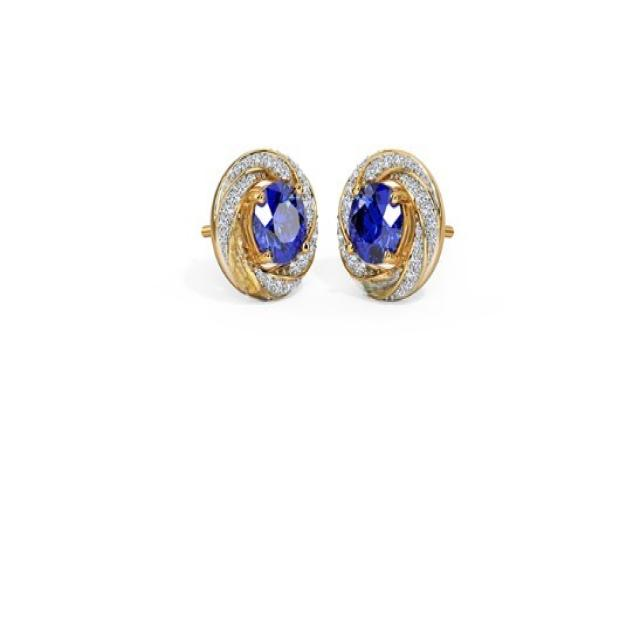missing gem: (225, 217, 273, 298), (417, 229, 443, 291), (354, 267, 404, 299)
